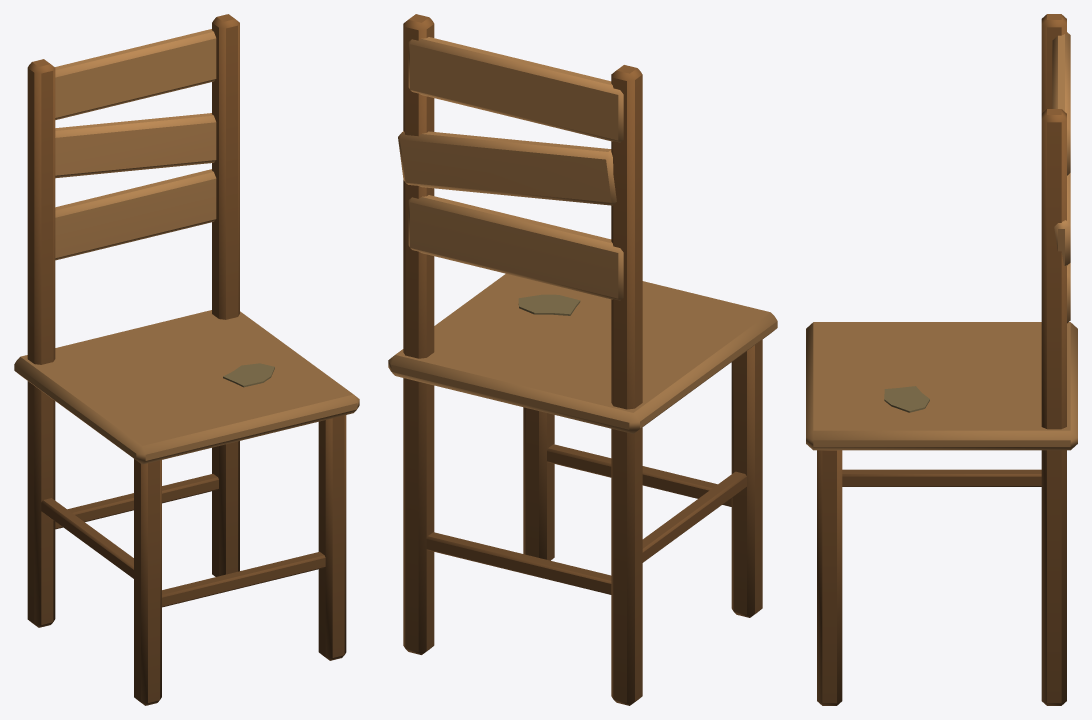
Rendered from 53_chaise_bois.fbx.
3 views of the same model, side by side, from view 1: azimuth 30°, elevation 25°; view 2: azimuth 150°, elevation 25°; view 3: azimuth 270°, elevation 25° (orthographic). The views are drawn at different scales.
Visible parts, largest first — view 1: Chaise; view 2: Chaise; view 3: Chaise.
Boxes of the visible parts, box(x1,y1,x2,y2) form: Chaise: box(14, 14, 359, 705); Chaise: box(388, 14, 777, 705); Chaise: box(806, 14, 1077, 705).
Bounding box in the file's own units: 0.42 × 1.01 × 0.42.
1 material, 1 textured.
